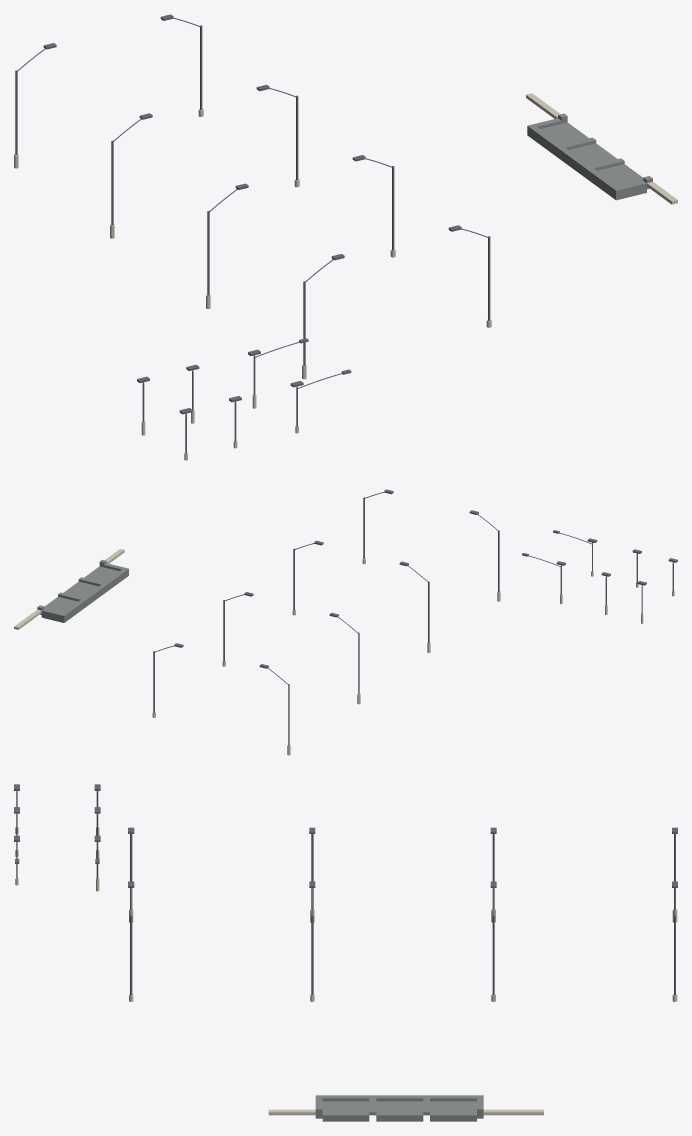
3 views of the same model, one above another, from view 1: azimuth 30°, elevation 25°; view 2: azimuth 150°, elevation 25°; view 3: azimuth 270°, elevation 25° (orthographic). The views are drawn at different scales.
Visible parts, largest first — view 1: buildings_s_-3_2_Standing_Seam_Roof, buildings_s_-3_2_Dark_Metal, buildings_s_-3_2_Warm_Limestone; view 2: buildings_s_-3_2_Standing_Seam_Roof, buildings_s_-3_2_Dark_Metal, buildings_s_-3_2_Warm_Limestone; view 3: buildings_s_-3_2_Standing_Seam_Roof, buildings_s_-3_2_Dark_Metal, buildings_s_-3_2_Warm_Limestone.
Boxes of the visible parts, x1,y1,x2,y2 form: buildings_s_-3_2_Standing_Seam_Roof: [527, 113, 652, 200]; buildings_s_-3_2_Dark_Metal: [15, 14, 490, 453]; buildings_s_-3_2_Warm_Limestone: [14, 93, 677, 460]; buildings_s_-3_2_Standing_Seam_Roof: [37, 559, 128, 622]; buildings_s_-3_2_Dark_Metal: [153, 489, 677, 745]; buildings_s_-3_2_Warm_Limestone: [14, 549, 674, 755]; buildings_s_-3_2_Standing_Seam_Roof: [315, 1095, 483, 1121]; buildings_s_-3_2_Dark_Metal: [14, 784, 677, 995]; buildings_s_-3_2_Warm_Limestone: [15, 827, 677, 1115].
Bounding box in the file's own units: 102 × 17.75 × 98.9.
